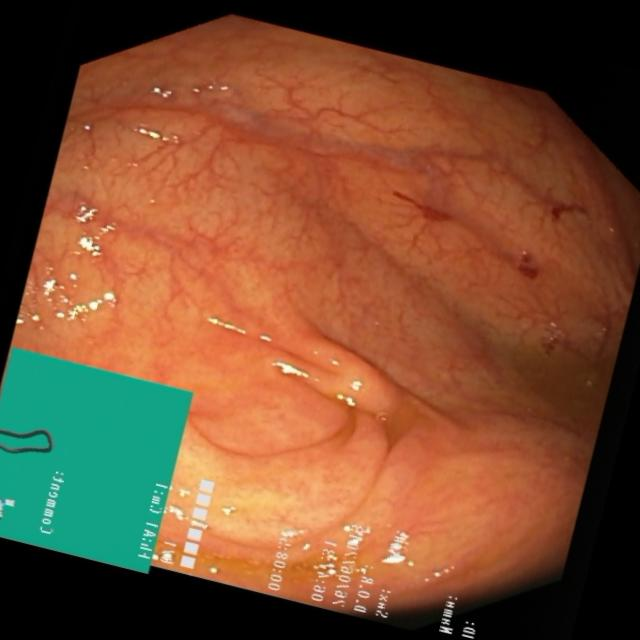normal-cecum: (256, 308, 435, 463), (484, 301, 637, 455), (149, 514, 432, 590), (385, 187, 474, 231), (486, 239, 561, 287), (541, 182, 592, 231)
